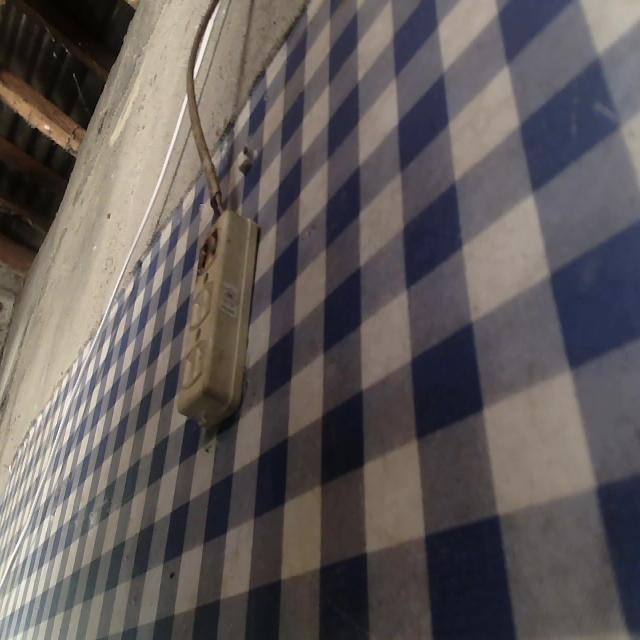-: (189, 227, 225, 272)
